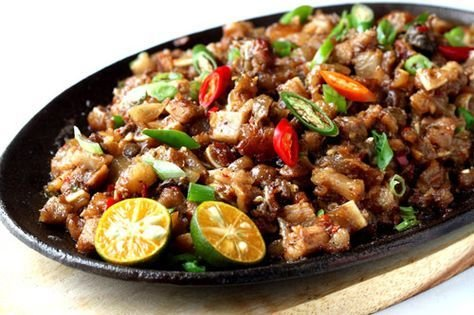curry: (370, 129, 394, 171)
sushi: (0, 4, 474, 303)
taco: (93, 197, 171, 265)
